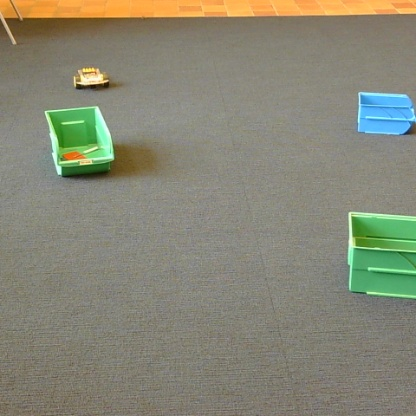robot: (73, 67, 109, 88)
